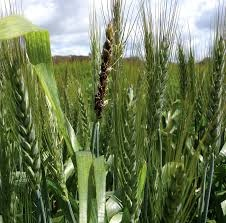Wheat Loose Smut: (92, 26, 119, 115)
